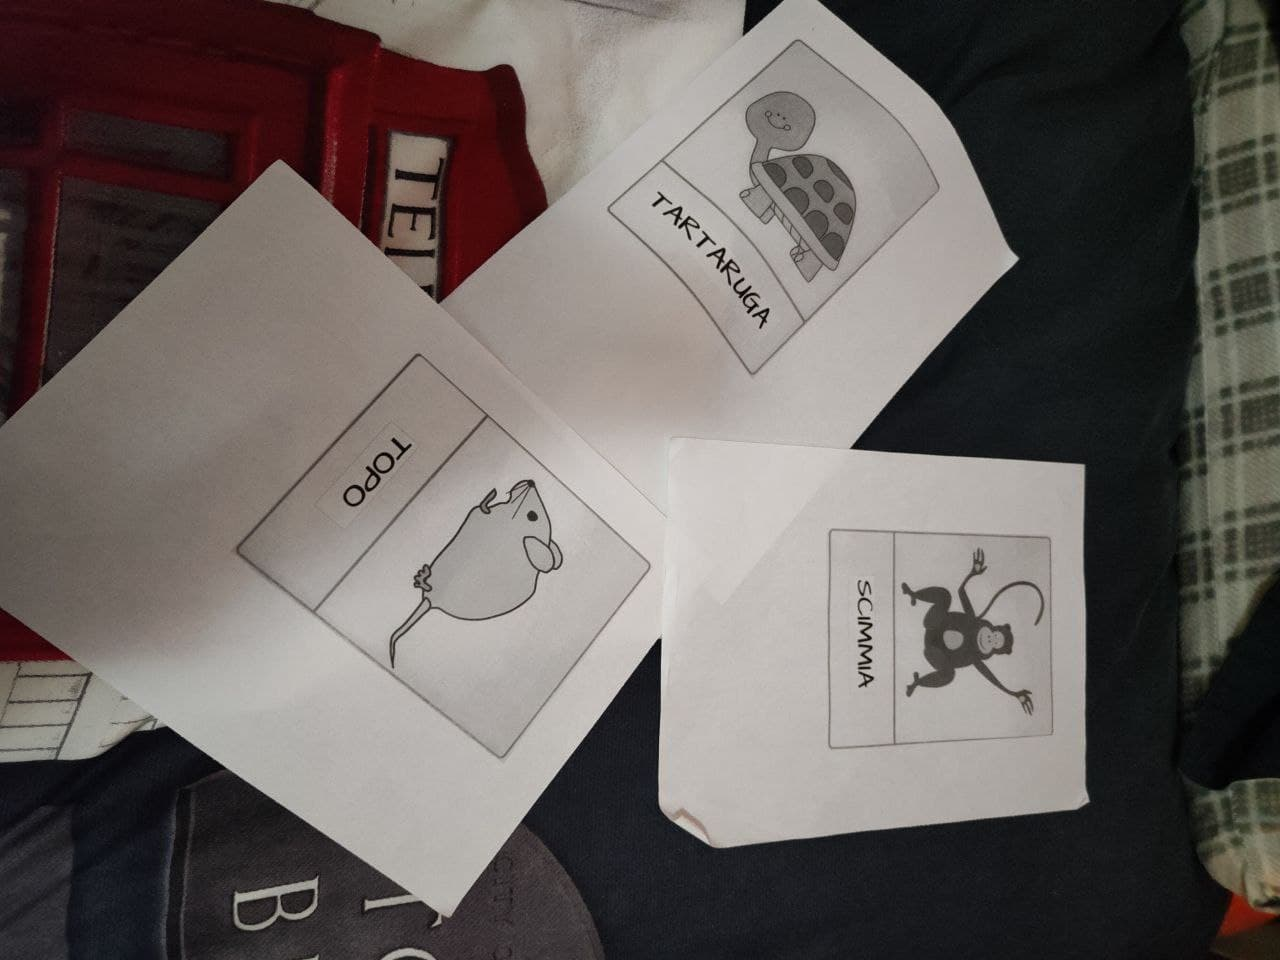scimmia: (829, 537, 1052, 742)
tartaruga: (643, 96, 868, 334)
topo: (279, 401, 575, 674)
